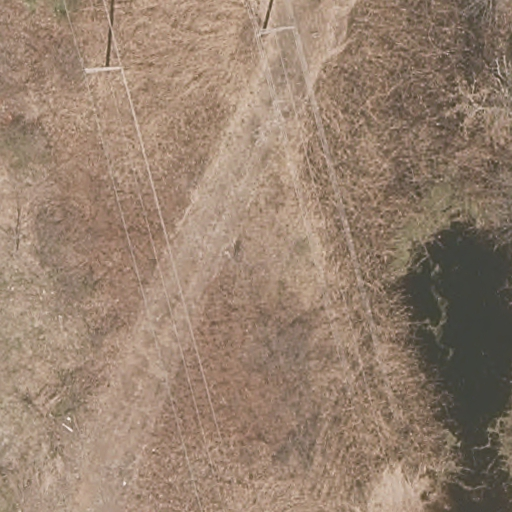DT: (254, 24, 298, 41), (83, 63, 125, 76)
